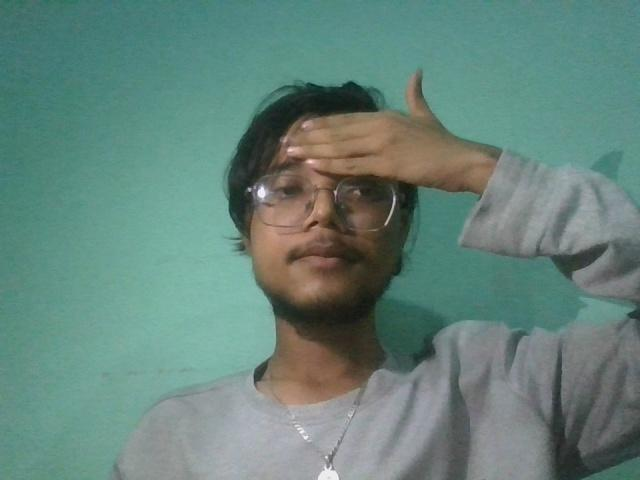forget: (269, 57, 518, 226)
